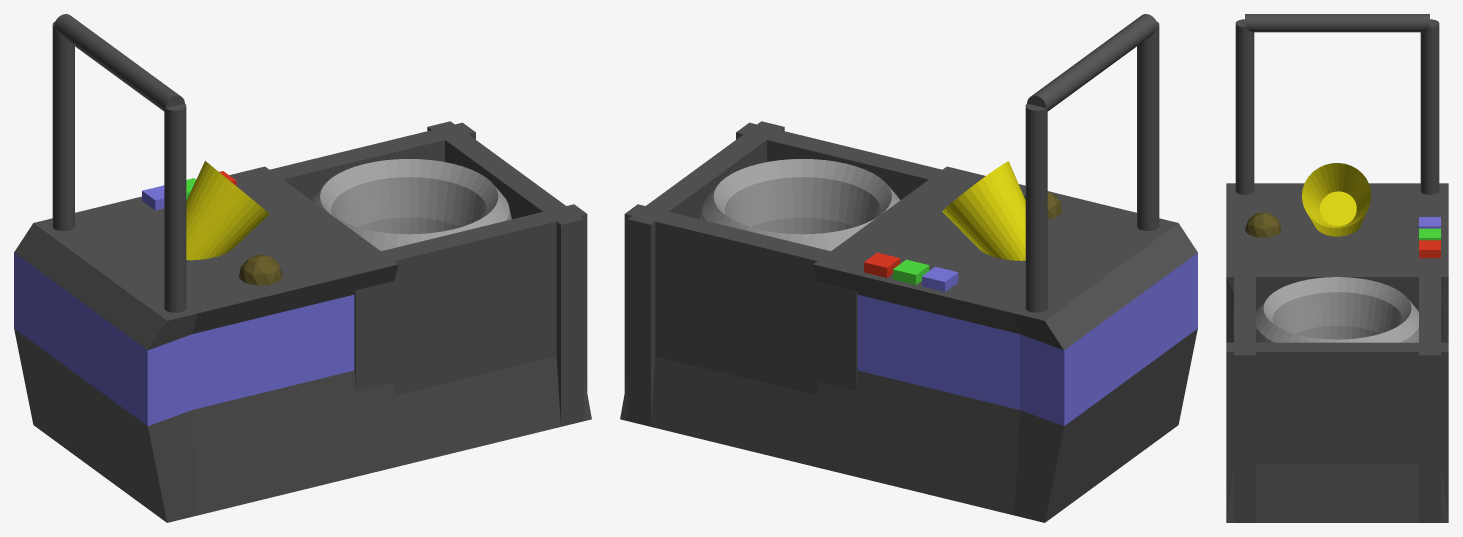
Rendered from mesto_comunista.fbx.
3 renders of one model, left to right at view 1: azimuth 30°, elevation 25°; view 2: azimuth 150°, elevation 25°; view 3: azimuth 270°, elevation 25°, orthographic. The views are drawn at different scales.
Visible parts, largest first — view 1: Cylinder.003; view 2: Cylinder.003; view 3: Cylinder.003.
Boxes of the visible parts, x1,y1,x2,y2 form: Cylinder.003: (14,14,591,522); Cylinder.003: (620,14,1197,522); Cylinder.003: (1226,14,1448,522).
Bounding box in the file's own units: 460 × 410 × 240.
